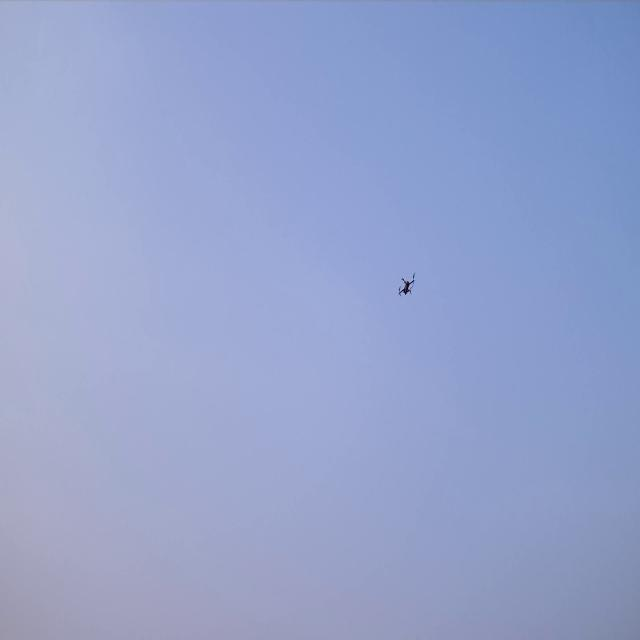UAV: (399, 276, 414, 295)
